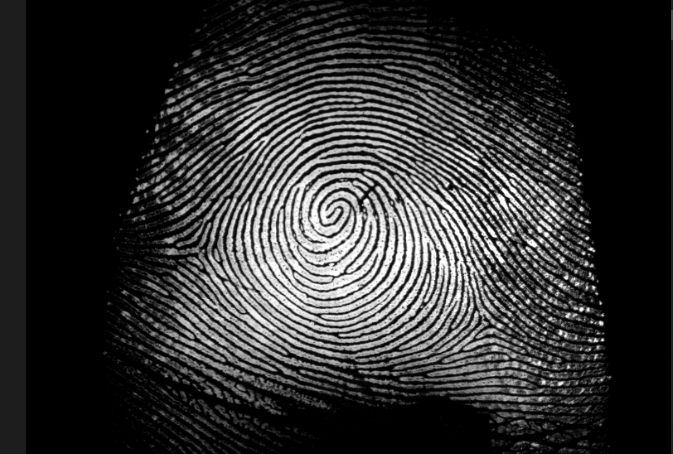deltas: (172, 218, 223, 275), (462, 300, 514, 350)
nucleo: (306, 183, 367, 241)
